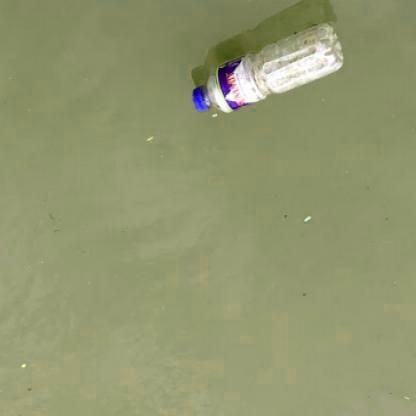Plastic: (186, 16, 346, 121)
